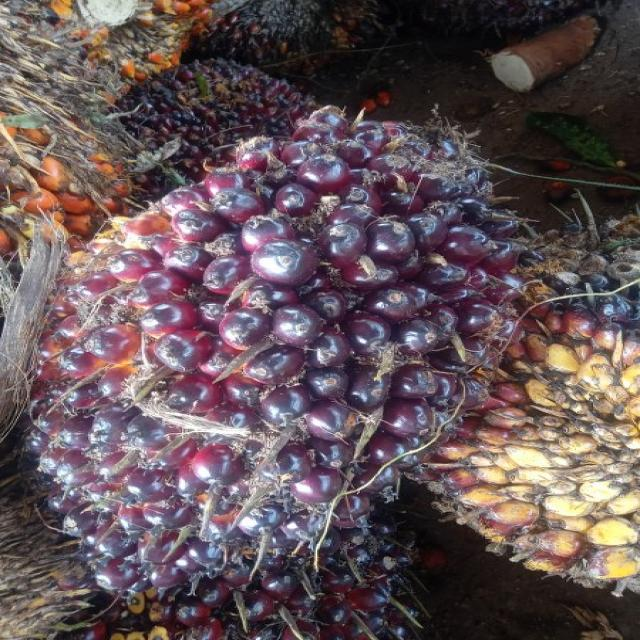fraksi 1: (25, 100, 539, 608)
